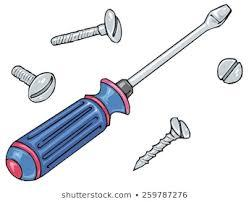screwdriver: (114, 2, 233, 91)
